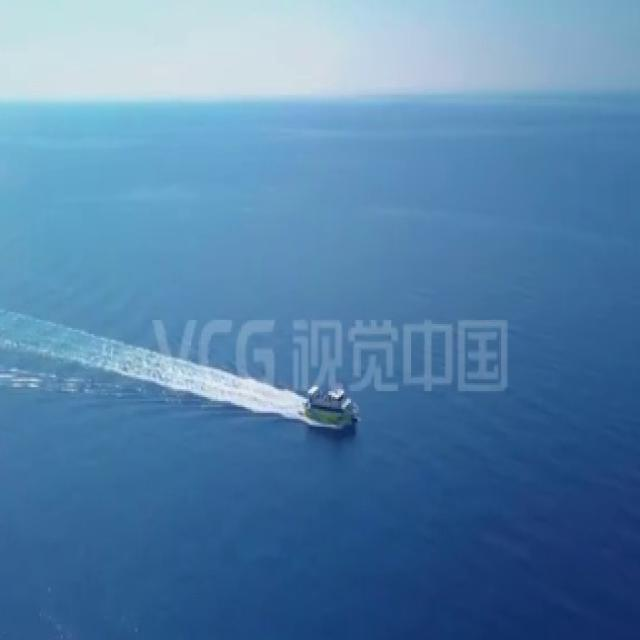houseboat: (300, 376, 363, 425)
